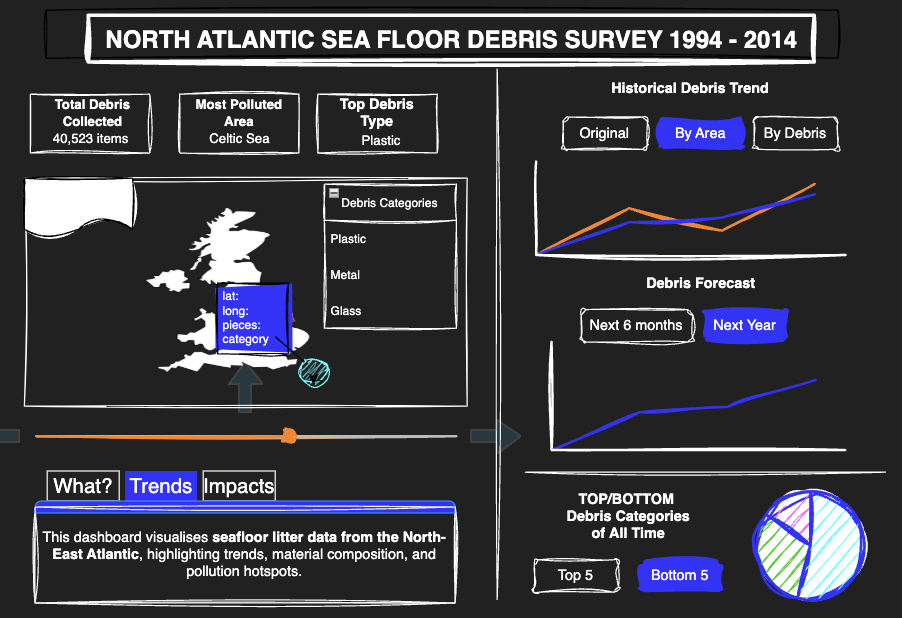

The page's visual inventory and layout, read from the dashboard file:
{"tool":"tableau","page":{"name":"Dashboard 11 (5)","canvas":[1366,768],"ordinal":0},"visuals":[{"type":"image","param":"Image/sea.001.jpeg","box":[3,7,1359,763]},{"type":"title","box":[8,8,1350,35]},{"type":"text","box":[1186,8,139,106]},{"type":"text","box":[812,14,140,93]},{"type":"text","box":[999,15,140,93]},{"type":"text","box":[586,25,160,30]},{"type":"text","box":[56,42,448,64]},{"type":"image","param":"Image/Cefas-logo.png","box":[576,55,167,66]},{"type":"text","box":[813,56,140,96]},{"type":"text","box":[1183,56,140,96]},{"type":"text","box":[999,57,140,96]},{"type":"text","box":[536,151,403,34]},{"type":"worksheet","title":"map","mark":"Circle","rows":["Latitude"],"cols":["Longitude"],"box":[1057,157,257,212]},{"type":"text","box":[45,166,325,330]},{"type":"text","box":[47,167,205,14]},{"type":"worksheet","title":"over time","mark":"Automatic","rows":["Calculation_221802339387650054","area"],"cols":["totallitter"],"box":[417,183,577,283]},{"type":"legend","title":"map","param":"[federated.0x7v7631474lda1brsxy51rn3jwb].[none:area:nk]","box":[1057,379,251,114]},{"type":"text","box":[418,507,403,32]},{"type":"worksheet","title":"total_trend","mark":"Automatic","rows":["totallitter"],"cols":["date"],"box":[982,509,339,216]},{"type":"text","box":[56,510,223,224]},{"type":"worksheet","title":"animation","mark":"Circle","cols":["year"],"box":[350,533,458,179]},{"type":"legend","title":"animation","param":"[federated.1l6h4ct0hsccwt187fy690mj9vl9].[:Measure Names]","box":[819,546,157,155]},{"type":"currpage","title":"animation","box":[376,711,490,19]}]}

Visuals, with their boxes on the page's 1366x768 design canvas (x1, y1, x2, y2). These are canvas units, not pixel positions in the 902x618 screenshot, which may show the page scaled, cropped or inside an application window:
image: region(3, 7, 1362, 770)
title: region(8, 8, 1358, 43)
text: region(1186, 8, 1325, 114)
text: region(812, 14, 952, 107)
text: region(999, 15, 1139, 108)
text: region(586, 25, 746, 55)
text: region(56, 42, 504, 106)
image: region(576, 55, 743, 121)
text: region(813, 56, 953, 152)
text: region(1183, 56, 1323, 152)
text: region(999, 57, 1139, 153)
text: region(536, 151, 939, 185)
"map" worksheet (Circle marks): region(1057, 157, 1314, 369)
text: region(45, 166, 370, 496)
text: region(47, 167, 252, 181)
"over time" worksheet: region(417, 183, 994, 466)
"map" legend: region(1057, 379, 1308, 493)
text: region(418, 507, 821, 539)
"total_trend" worksheet: region(982, 509, 1321, 725)
text: region(56, 510, 279, 734)
"animation" worksheet (Circle marks): region(350, 533, 808, 712)
"animation" legend: region(819, 546, 976, 701)
"animation" currpage: region(376, 711, 866, 730)
